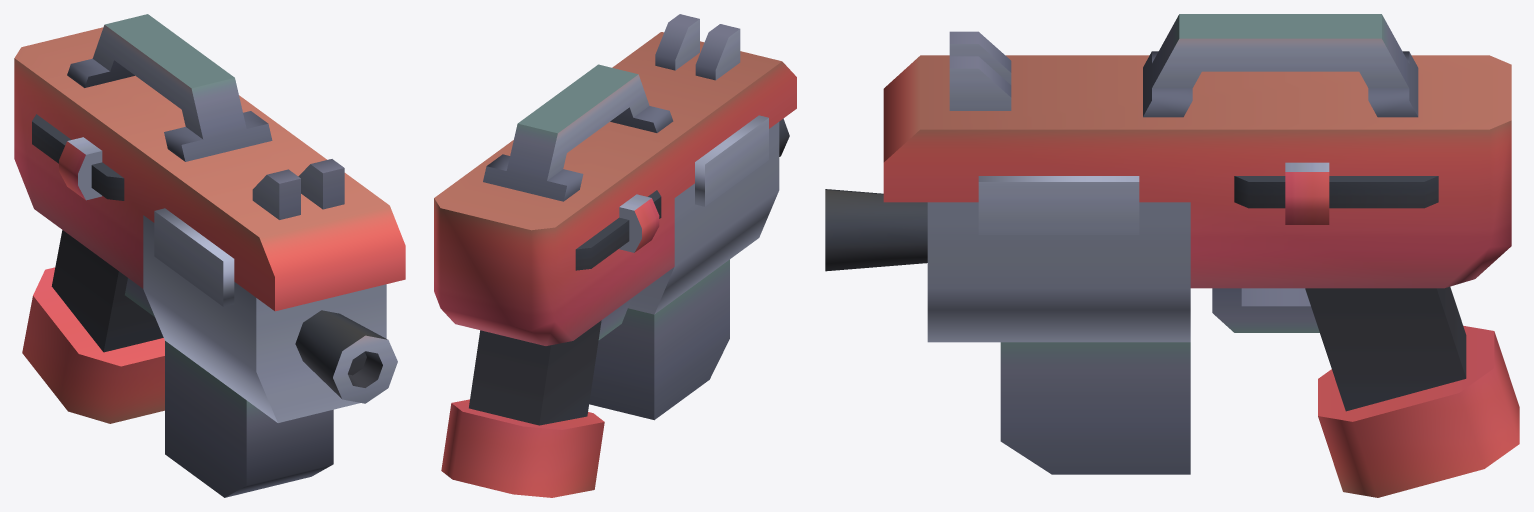
The picture shows the model from 3 angles, left to right: view 1: azimuth 30°, elevation 25°; view 2: azimuth 150°, elevation 25°; view 3: azimuth 270°, elevation 25°; orthographic projection. The views are drawn at different scales.
Visible parts, largest first — view 1: blaster-c; view 2: blaster-c; view 3: blaster-c.
Part boxes in pixels (x1,y1,x2,y2): blaster-c: (14, 14, 405, 497); blaster-c: (434, 14, 796, 497); blaster-c: (825, 14, 1519, 497).
Bounding box in the file's own units: 0.125 × 0.2559 × 0.36.
1 material, 1 textured.
